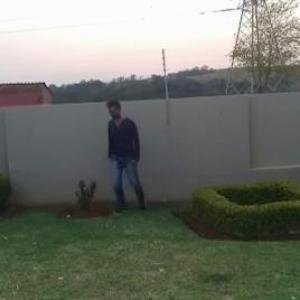follow: (108, 96, 144, 217)
